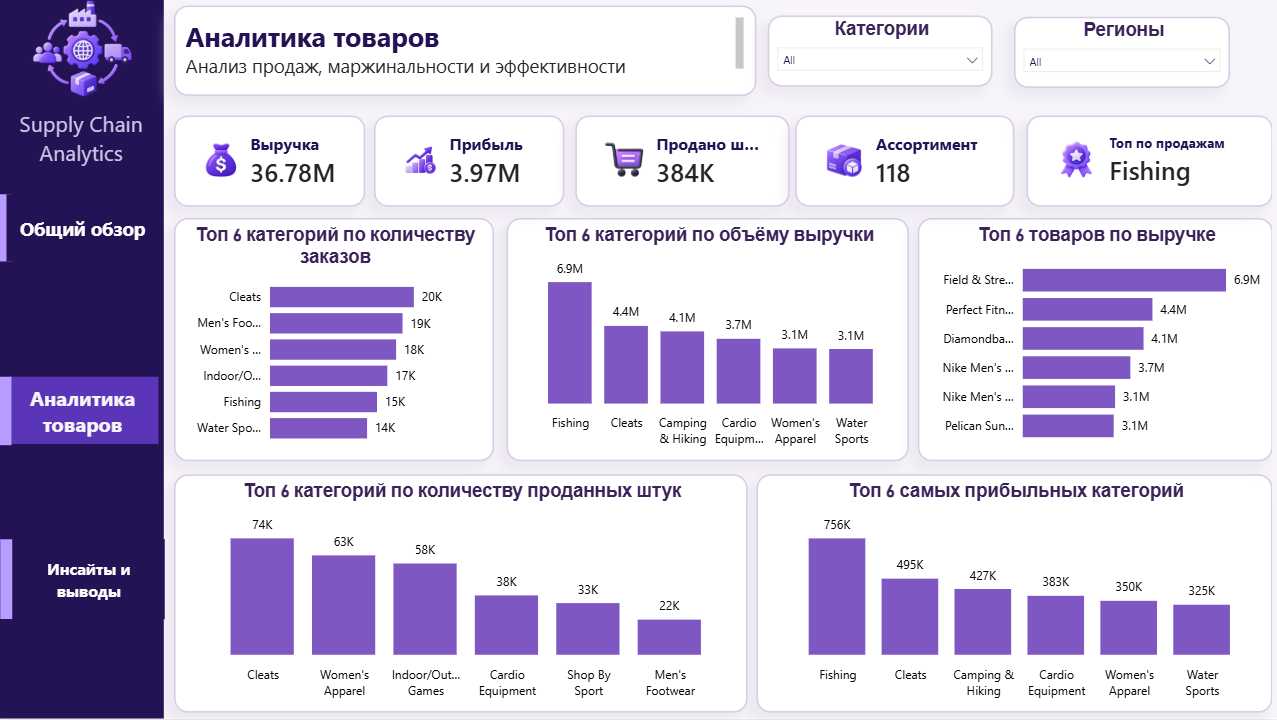

What the dashboard file says about the page in this screenshot:
{"tool":"powerbi","page":{"name":"Аналитика товаров","canvas":[1280,720],"ordinal":1},"visuals":[{"type":"clusteredColumnChart","title":"Топ 6 категорий по объёму выручки","fields":{"Category":["DimProduct.Category Name"],"Y":["Measure.Total Sales"]},"box":[507.4,219.5,402.1,243.6],"z":0},{"type":"clusteredColumnChart","title":"Топ 6 самых прибыльных категорий","fields":{"Category":["DimProduct.Category Name"],"Y":["DataCoSupplyChainDataset.Total Profit"]},"box":[757.3,475.7,516.3,238.5],"z":1000},{"type":"clusteredBarChart","title":"Топ 6 товаров по выручке","fields":{"Category":["DimProduct.Product Name"],"Y":["DataCoSupplyChainDataset.Total Sales"]},"box":[918.5,219.5,355.2,243.6],"z":2000},{"type":"clusteredColumnChart","title":"Топ 6 категорий по количеству проданных штук","fields":{"Category":["DimProduct.Category Name"],"Y":["Measure.Quantity Sold"]},"box":[175.1,475.7,573.4,238.5],"z":3000},{"type":"cardVisual","fields":{"Data":["DataCoSupplyChainDataset.Total Profit"]},"box":[375.5,118,190.3,91.3],"z":4000},{"type":"cardVisual","fields":{"Data":["DataCoSupplyChainDataset.Total Sales"]},"box":[175.1,118,191.6,91.3],"z":5000},{"type":"clusteredBarChart","title":"Топ 6 категорий по количеству заказов","fields":{"Category":["DimProduct.Category Name"],"Y":["DataCoSupplyChainDataset.Total Orders"]},"box":[175.1,219.5,319.7,243.6],"z":6000},{"type":"shape","box":[0,0,164.9,720.6],"z":7000},{"type":"actionButton","box":[7.5,378.8,152.2,67.2],"z":8000},{"type":"shape","box":[0,196.3,12.4,67.2],"z":9000},{"type":"actionButton","box":[7.4,196.3,152.2,67.2],"z":14000},{"type":"shape","box":[0,378.8,12.4,68.4],"z":15000},{"type":"textbox","box":[0,88.3,164.4,100.6],"z":16000},{"type":"textbox","box":[175,7,582.3,90.1],"z":17000},{"type":"cardVisual","fields":{"Data":["DataCoSupplyChainDataset.Quantity Sold"]},"box":[575.9,118,214.4,91.3],"z":18000},{"type":"cardVisual","fields":{"Data":["DataCoSupplyChainDataset.Total Products"]},"box":[796.7,118,219.5,91.3],"z":19000},{"type":"cardVisual","fields":{"Data":["DataCoSupplyChainDataset.Best Selling Category"]},"box":[1027.6,118,246,91.3],"z":20000},{"type":"slicer","title":"Регионы","fields":{"Values":["DimMarket.Market"]},"box":[1015,18.8,216.2,71.2],"z":21000},{"type":"image","box":[22.1,0,121.5,104.3],"z":22000},{"type":"slicer","title":"Категории","fields":{"Values":["DimProduct.Category Name"]},"box":[768.8,17.5,225,71.2],"z":23000},{"type":"actionButton","box":[13.8,541.2,152.2,79.9],"z":24000},{"type":"shape","box":[1.2,541.2,12.3,79.8],"z":25000}]}

Visuals, with their boxes on the page's 1280x720 design canvas (x1, y1, x2, y2). These are canvas units, not pixel positions in the 1277x720 screenshot, which may show the page scaled, cropped or inside an application window:
"Топ 6 категорий по объёму выручки" clusteredColumnChart: {"left": 507, "top": 220, "right": 910, "bottom": 463}
"Топ 6 самых прибыльных категорий" clusteredColumnChart: {"left": 757, "top": 476, "right": 1274, "bottom": 714}
"Топ 6 товаров по выручке" clusteredBarChart: {"left": 918, "top": 220, "right": 1274, "bottom": 463}
"Топ 6 категорий по количеству проданных штук" clusteredColumnChart: {"left": 175, "top": 476, "right": 748, "bottom": 714}
cardVisual - DataCoSupplyChainDataset.Total Profit: {"left": 376, "top": 118, "right": 566, "bottom": 209}
cardVisual - DataCoSupplyChainDataset.Total Sales: {"left": 175, "top": 118, "right": 367, "bottom": 209}
"Топ 6 категорий по количеству заказов" clusteredBarChart: {"left": 175, "top": 220, "right": 495, "bottom": 463}
shape: {"left": 0, "top": 0, "right": 165, "bottom": 721}
actionButton: {"left": 8, "top": 379, "right": 160, "bottom": 446}
shape: {"left": 0, "top": 196, "right": 12, "bottom": 264}
actionButton: {"left": 7, "top": 196, "right": 160, "bottom": 264}
shape: {"left": 0, "top": 379, "right": 12, "bottom": 447}
textbox: {"left": 0, "top": 88, "right": 164, "bottom": 189}
textbox: {"left": 175, "top": 7, "right": 757, "bottom": 97}
cardVisual - DataCoSupplyChainDataset.Quantity Sold: {"left": 576, "top": 118, "right": 790, "bottom": 209}
cardVisual - DataCoSupplyChainDataset.Total Products: {"left": 797, "top": 118, "right": 1016, "bottom": 209}
cardVisual - DataCoSupplyChainDataset.Best Selling Category: {"left": 1028, "top": 118, "right": 1274, "bottom": 209}
"Регионы" slicer: {"left": 1015, "top": 19, "right": 1231, "bottom": 90}
image: {"left": 22, "top": 0, "right": 144, "bottom": 104}
"Категории" slicer: {"left": 769, "top": 18, "right": 994, "bottom": 89}
actionButton: {"left": 14, "top": 541, "right": 166, "bottom": 621}
shape: {"left": 1, "top": 541, "right": 14, "bottom": 621}
